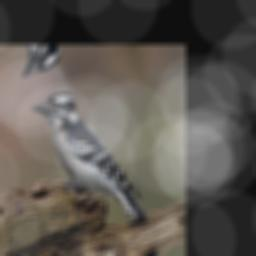Woodpecker: (29, 69, 150, 256)
